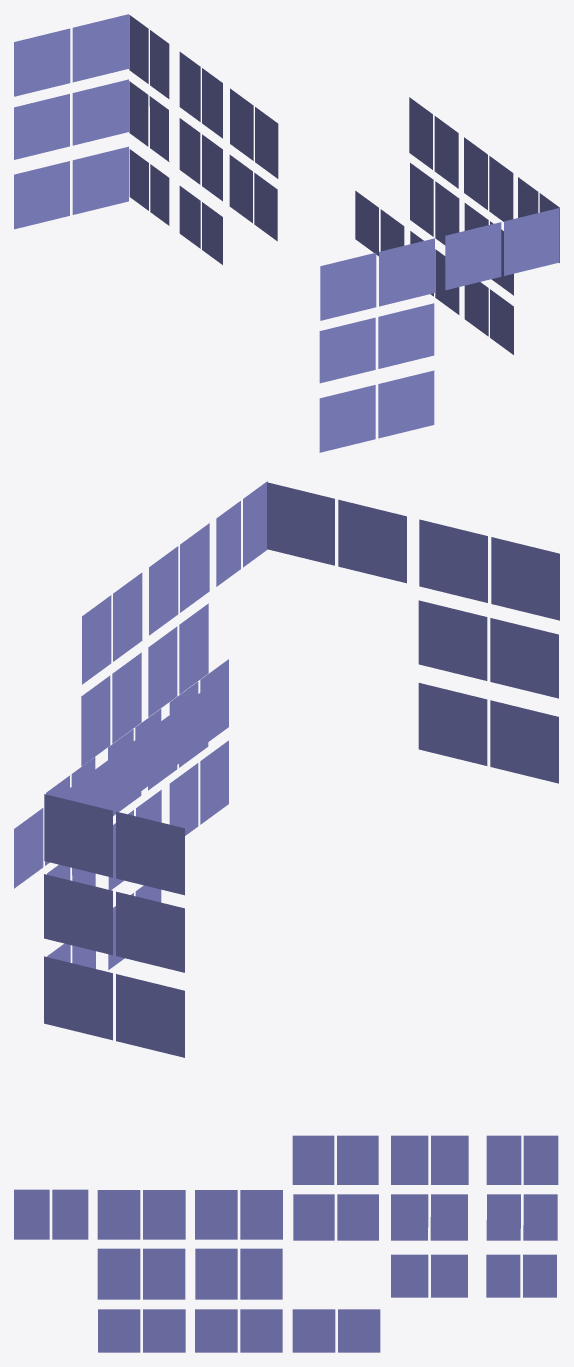
Rendered from top-windows.fbx.
The picture shows the model from 3 angles, top to bottom: view 1: azimuth 30°, elevation 25°; view 2: azimuth 150°, elevation 25°; view 3: azimuth 270°, elevation 25°; orthographic projection. The views are drawn at different scales.
Visible parts, largest first — view 1: top-windows; view 2: top-windows; view 3: top-windows.
Boxes of the visible parts, box(x1,y1,x2,y2) form: top-windows: box(14, 14, 559, 452); top-windows: box(14, 481, 559, 1057); top-windows: box(14, 1135, 558, 1352).
Bounding box in the file's own units: 11.54 × 8.63 × 25.5.
